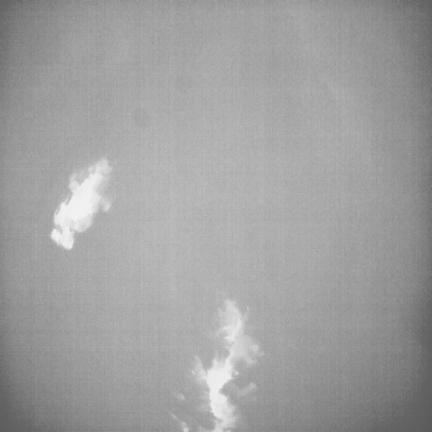flukeprints: (194, 300, 260, 431), (50, 158, 112, 250)
